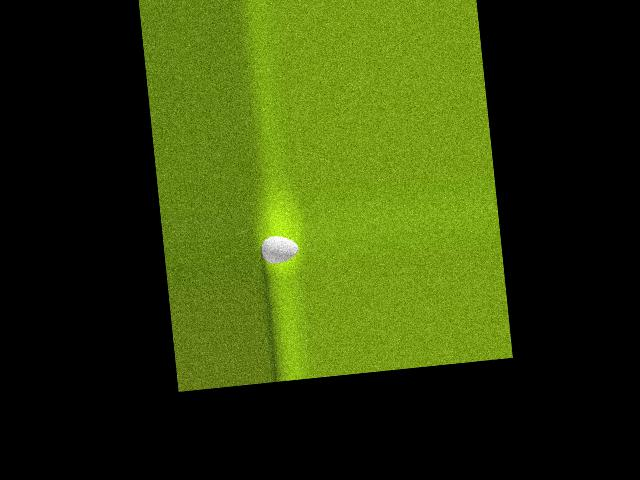egg: (260, 234, 300, 265)
